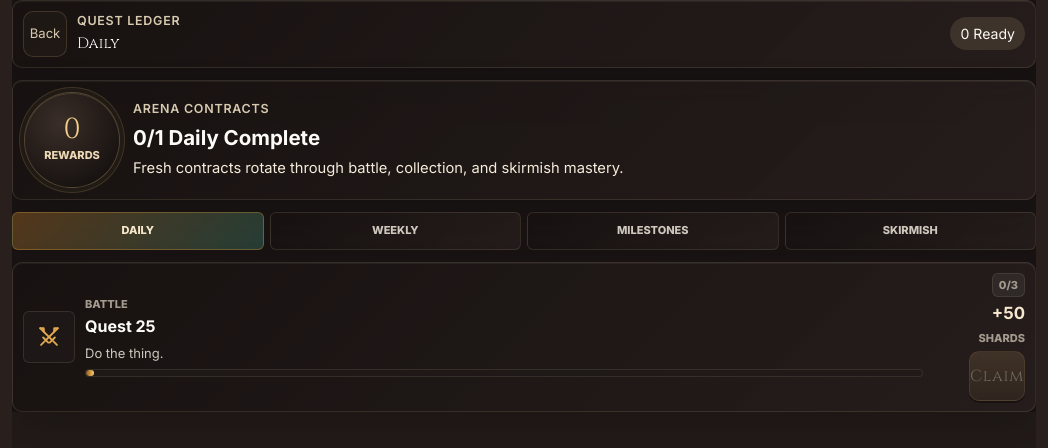
Test: QuestLedgerPanel › shows an empty state when a tab has no contracts
The width and height of the screenshot is (1048, 448).
Click the button "Milestones".
click(653, 231)  # box [527, 212, 778, 250]
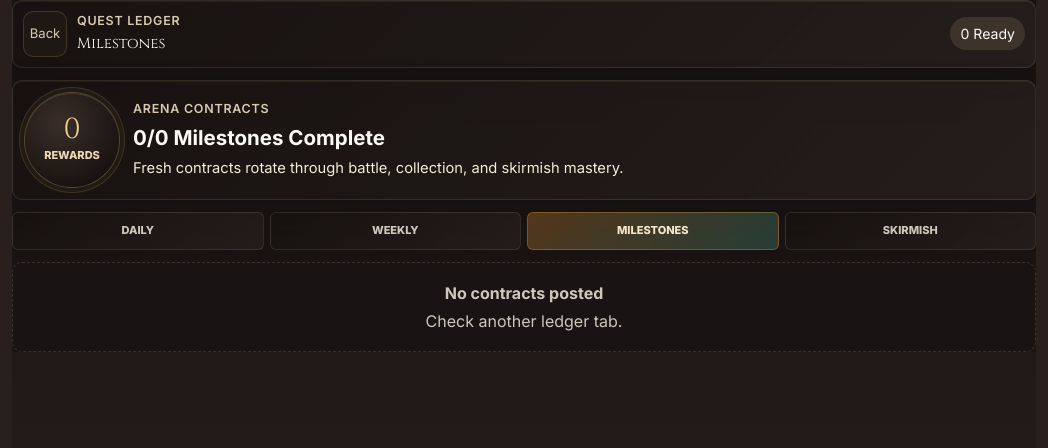
Now the text "No contracts posted" is shown, box [445, 281, 603, 305]
